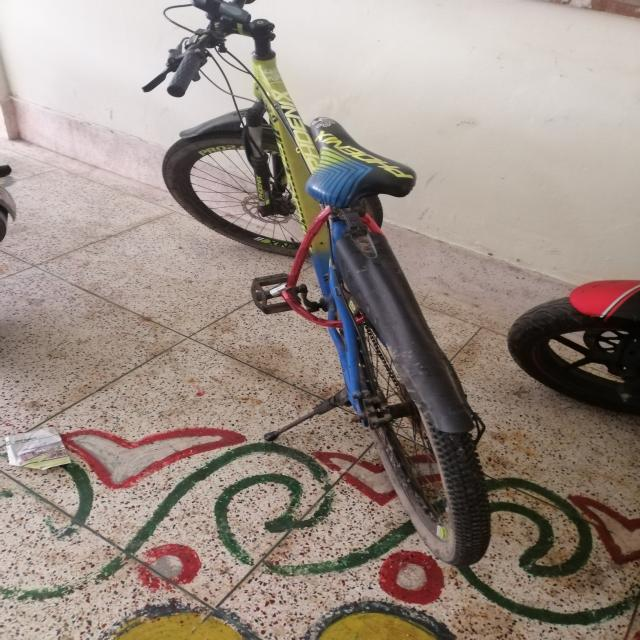Bicycle: (106, 1, 509, 582)
